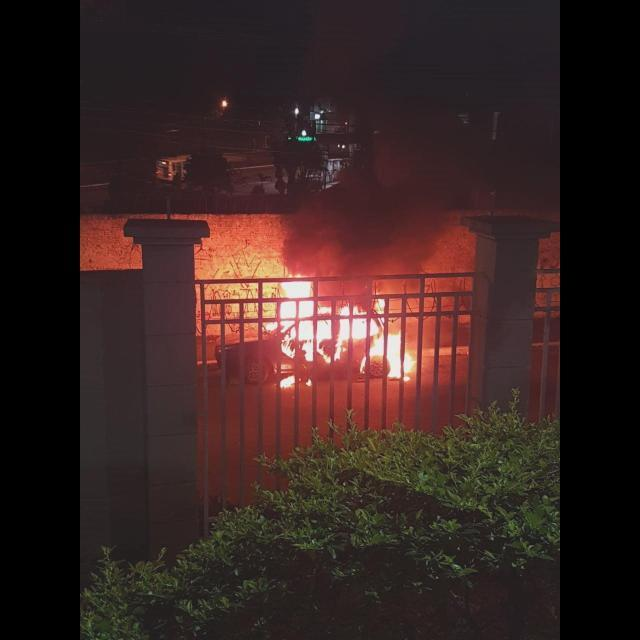Fire: (262, 274, 418, 390)
Smoke: (289, 187, 476, 282)
